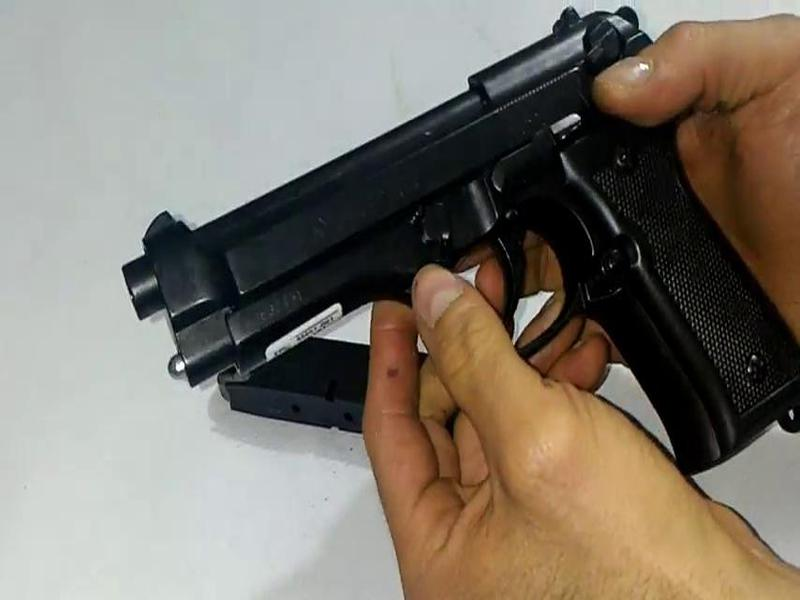Pistola: (108, 2, 800, 478)
